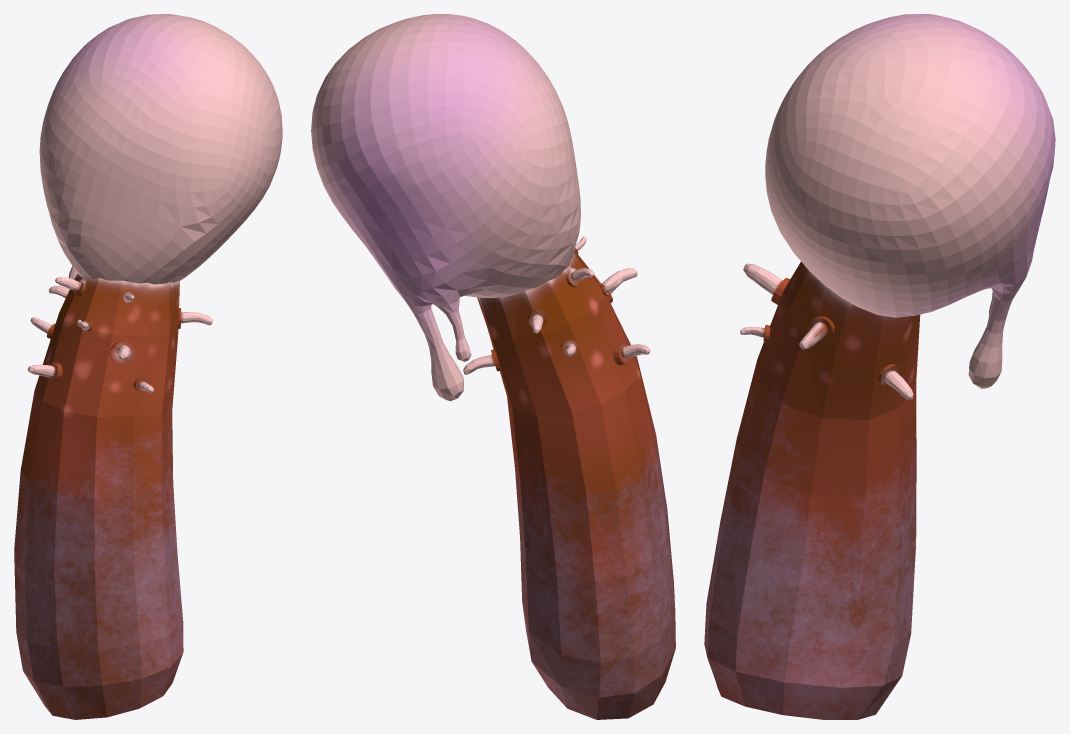
The model's file is Slintak.OBJ.
3 views of the same model, side by side, from view 1: azimuth 30°, elevation 25°; view 2: azimuth 150°, elevation 25°; view 3: azimuth 270°, elevation 25° (orthographic). The views are drawn at different scales.
Parts seen in each view (by area): view 1: ZBrushPolyMesh3D; view 2: ZBrushPolyMesh3D; view 3: ZBrushPolyMesh3D.
Part boxes in pixels (bbox=[...]): ZBrushPolyMesh3D: bbox=[14, 14, 282, 719]; ZBrushPolyMesh3D: bbox=[311, 14, 675, 719]; ZBrushPolyMesh3D: bbox=[704, 14, 1055, 719].
Bounding box in the file's own units: 1.64 × 3.54 × 1.5.
